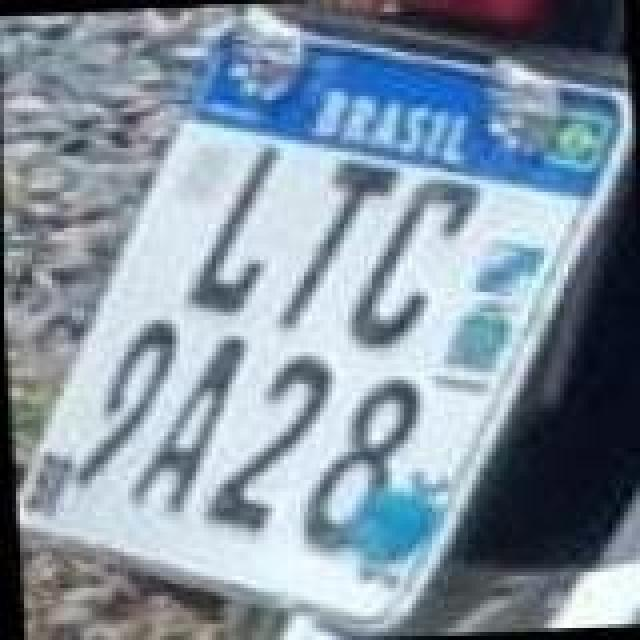2: (188, 348, 344, 532)
8: (286, 374, 430, 554)
9: (58, 314, 190, 486)
A: (110, 332, 258, 516)
C: (332, 176, 492, 352)
L: (176, 146, 292, 318)
T: (264, 156, 412, 332)
